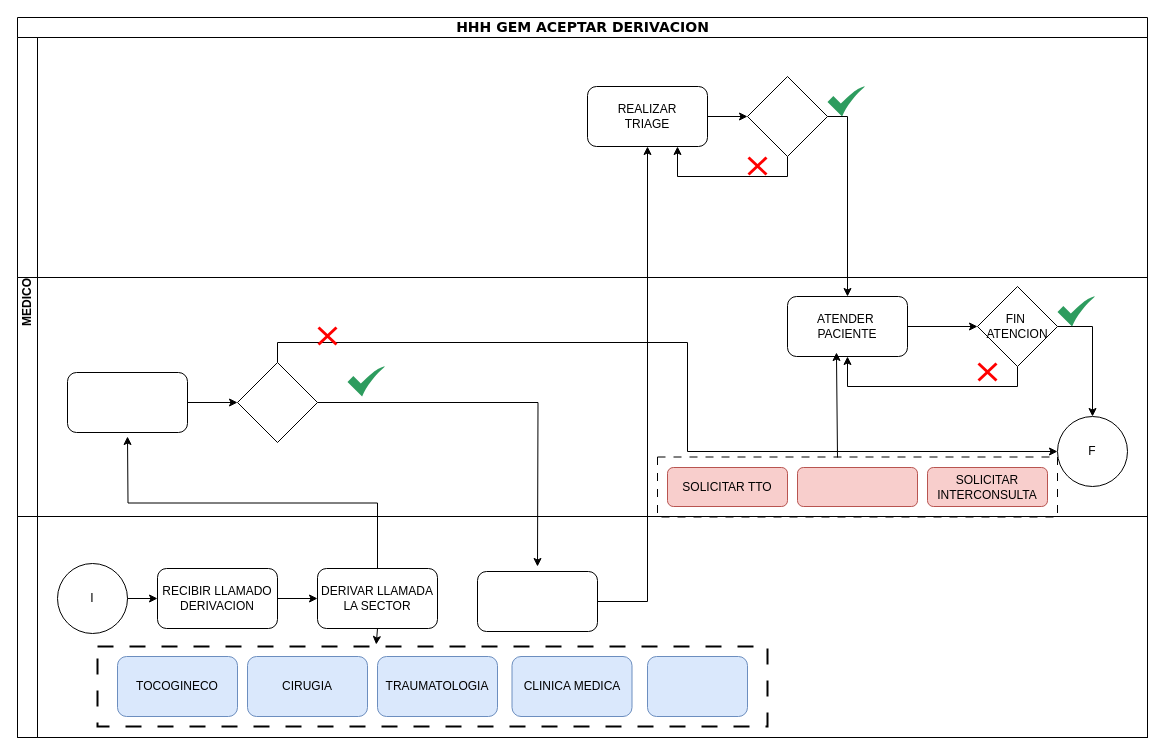
Image size: 1165x755. Some labels were removed from this diagram. The shapes that lost their labels are listed below. From the top down, each one's box as (x1, y1, x2, y2) in pixels, then its label:
(746, 76, 828, 156): FIN TRIAGE
(16, 36, 1148, 278): ENFERMERIA
(66, 372, 188, 432): EVALUAR DERIVACION
(236, 362, 318, 442): ACEPTA
(796, 466, 918, 506): SOLICITAR ESTUDIOS
(476, 570, 598, 632): RECEPCIONAR PACIENTE
(16, 516, 1148, 738): GESTION DE PACIENTES
(646, 656, 748, 716): GUARDIA
